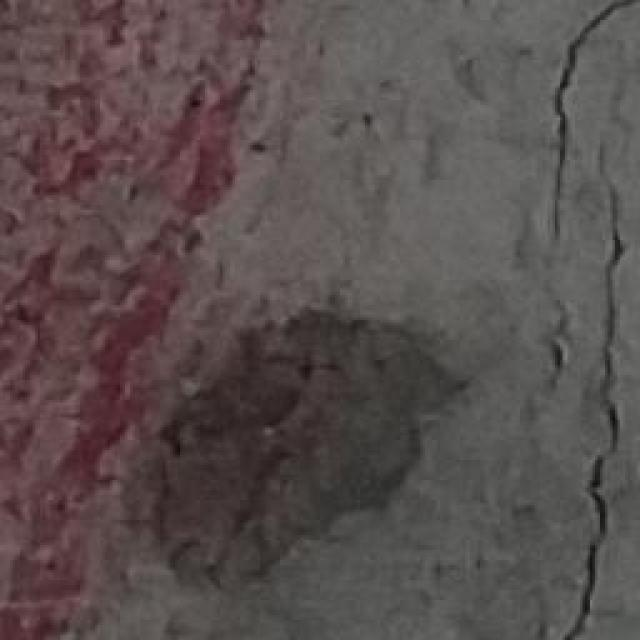Longitudinal: (533, 0, 640, 640)
Rippled: (0, 0, 525, 640)
